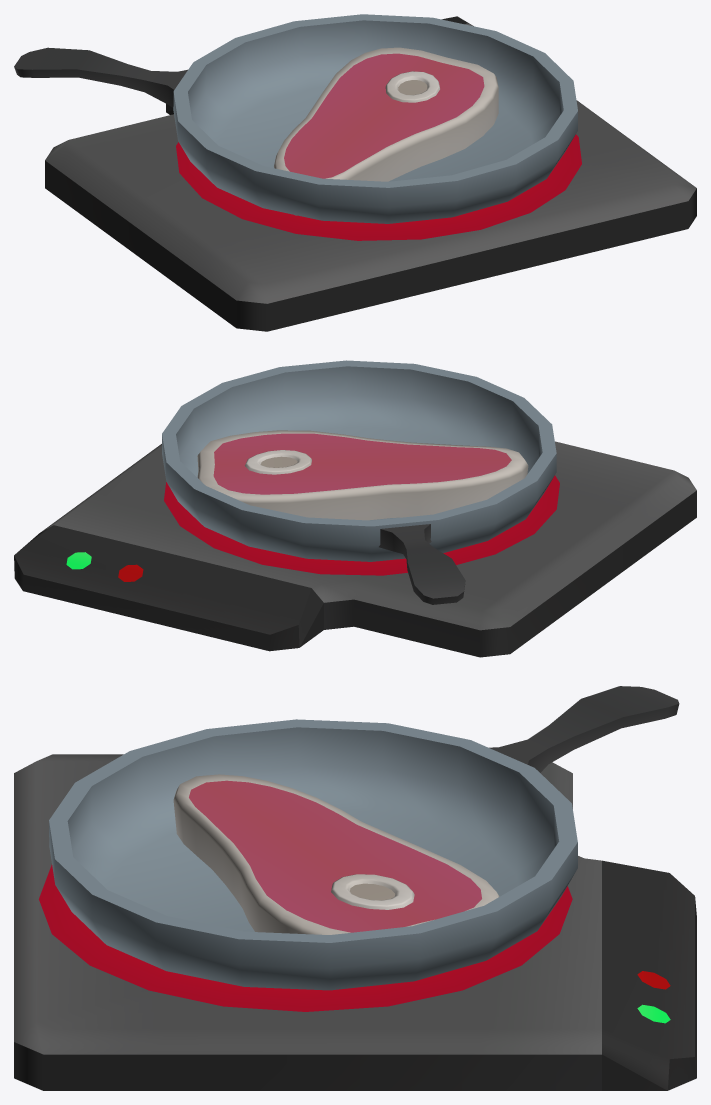
The model's file is Station Steak.fbx.
3 renders of one model, top to bottom at view 1: azimuth 30°, elevation 25°; view 2: azimuth 150°, elevation 25°; view 3: azimuth 270°, elevation 25°, orthographic. The views are drawn at different scales.
Parts seen in each view (by area): view 1: Station_Stake; view 2: Station_Stake; view 3: Station_Stake.
Boxes of the visible parts, x1,y1,x2,y2 form: Station_Stake: [14, 14, 696, 331]; Station_Stake: [14, 360, 696, 657]; Station_Stake: [14, 686, 696, 1090].
Size of the model in its own units: 187 by 37.96 by 184.
